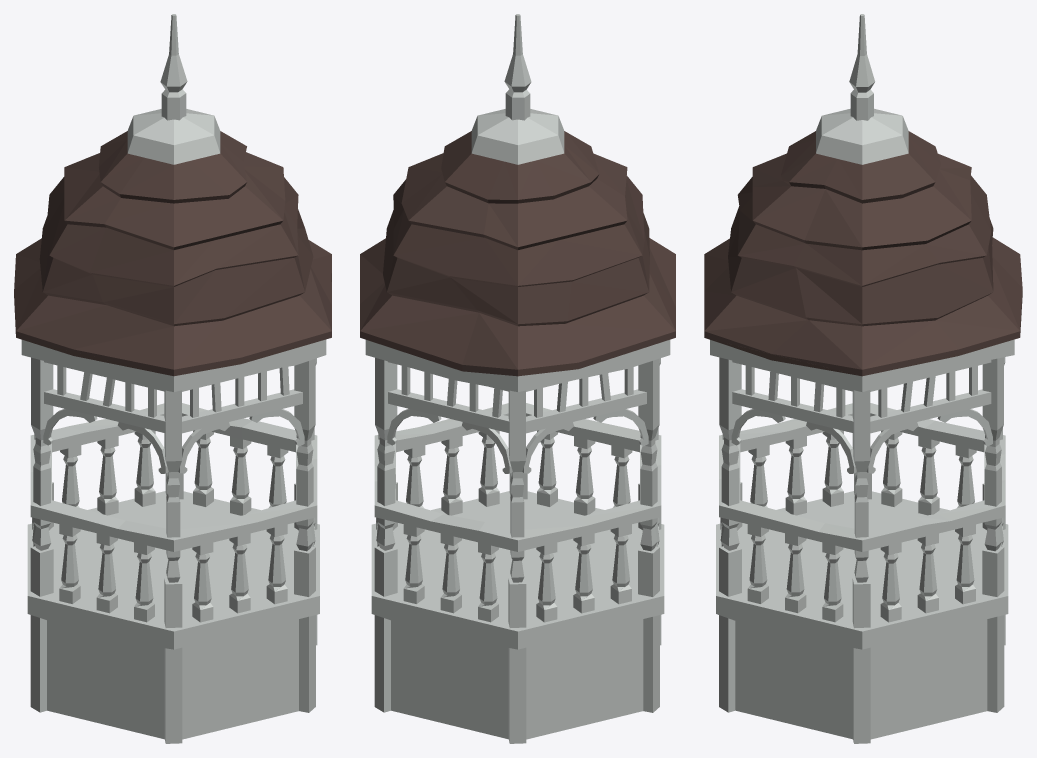
The model's file is SM_Bld_Mansion_Tower_01.glb.
The picture shows the model from 3 angles, left to right: view 1: azimuth 30°, elevation 25°; view 2: azimuth 150°, elevation 25°; view 3: azimuth 270°, elevation 25°; orthographic projection.
Visible parts, largest first — view 1: SM_Bld_Mansion_Tower_01_part00; view 2: SM_Bld_Mansion_Tower_01_part00; view 3: SM_Bld_Mansion_Tower_01_part00.
Boxes of the visible parts, x1=… form: SM_Bld_Mansion_Tower_01_part00: x1=14, y1=14, x2=331, y2=743; SM_Bld_Mansion_Tower_01_part00: x1=360, y1=14, x2=675, y2=743; SM_Bld_Mansion_Tower_01_part00: x1=704, y1=14, x2=1022, y2=743.
Bounding box in the file's own units: 3.78 × 7.55 × 3.3.
Materials: 1 (1 with a texture image).
